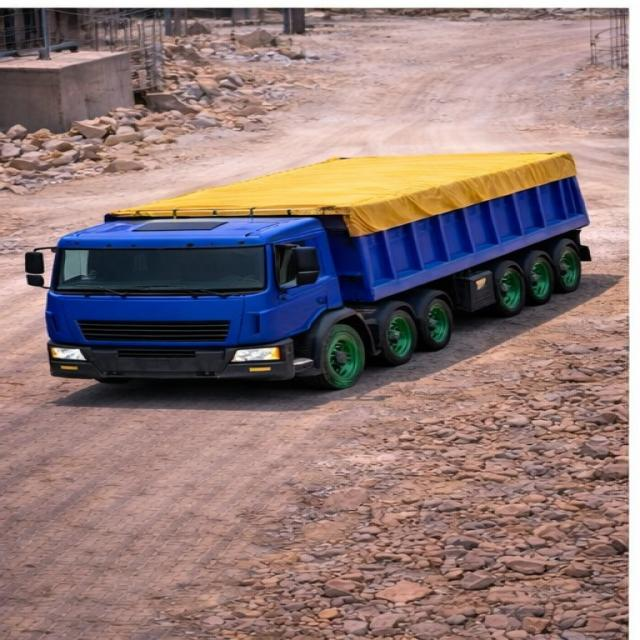trailer: (107, 157, 591, 227)
truck: (27, 133, 594, 394)
